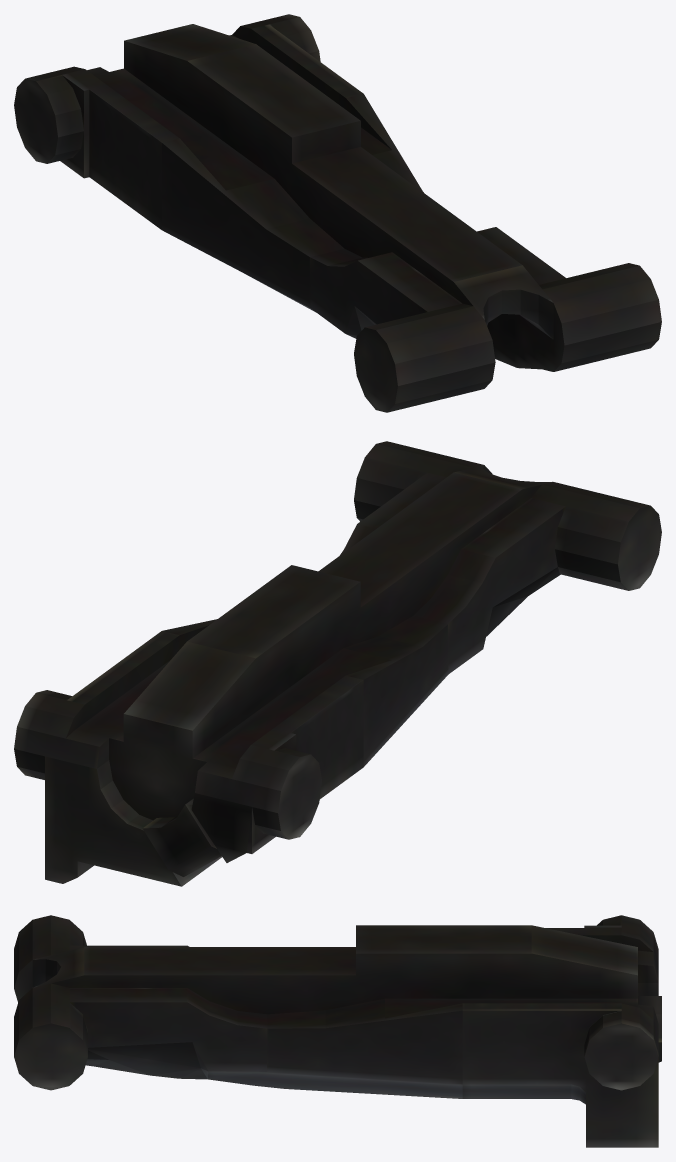
3 views of the same model, one above another, from view 1: azimuth 30°, elevation 25°; view 2: azimuth 150°, elevation 25°; view 3: azimuth 270°, elevation 25° (orthographic). The views are drawn at different scales.
Parts seen in each view (by area): view 1: TW_5fc3f2d5900b1d5091531e57_PZ_Import; view 2: TW_5fc3f2d5900b1d5091531e57_PZ_Import; view 3: TW_5fc3f2d5900b1d5091531e57_PZ_Import.
Part boxes in pixels (x1,y1,x2,y2): TW_5fc3f2d5900b1d5091531e57_PZ_Import: (14,14,661,412); TW_5fc3f2d5900b1d5091531e57_PZ_Import: (14,441,661,886); TW_5fc3f2d5900b1d5091531e57_PZ_Import: (14,915,661,1147).
Bounding box in the file's own units: 0.0155 × 0.0393 × 0.0112.
1 material, 1 textured.
